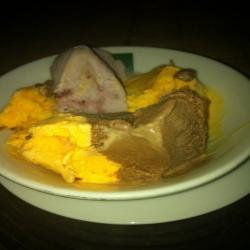apple_pie: (5, 67, 217, 134)
icecream: (41, 35, 141, 131)
